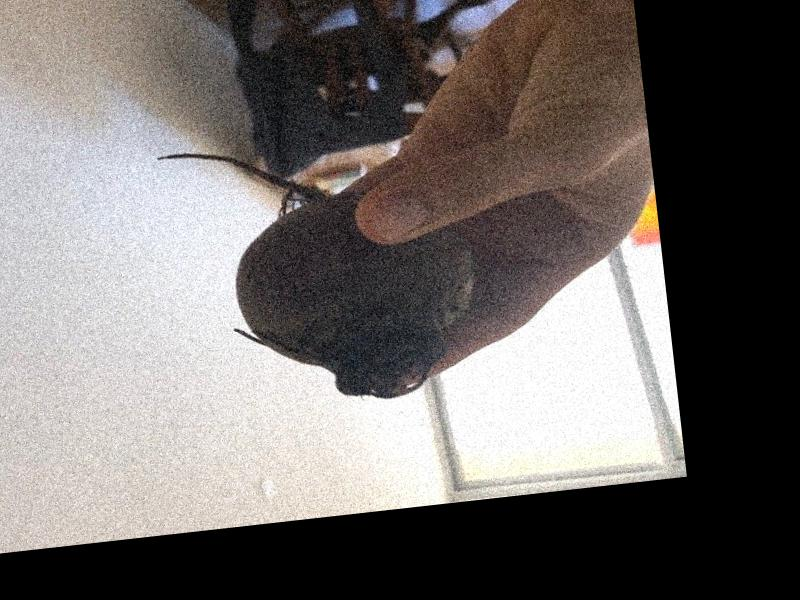Beet: (157, 122, 486, 420)
